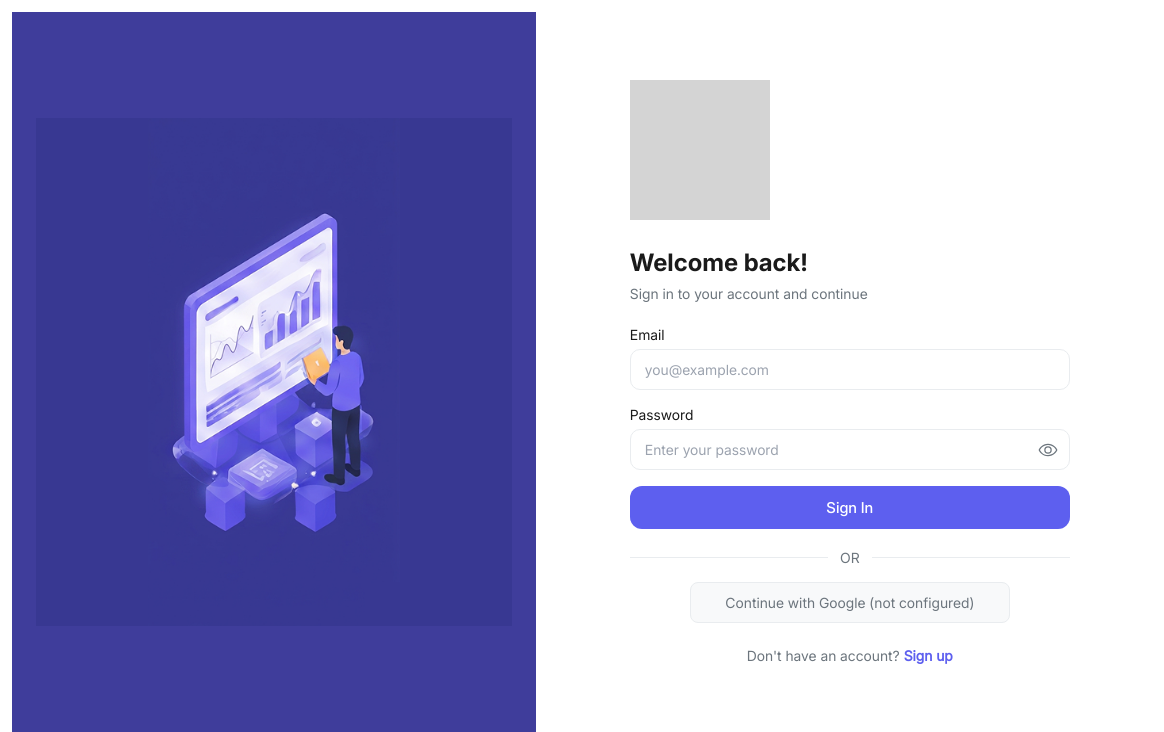
Scenario: a failed sign-in shows the server message and stays on the sign-in page
In the field labelled "Email": (850, 370) [630,349,1070,390], type "zed@example.test"
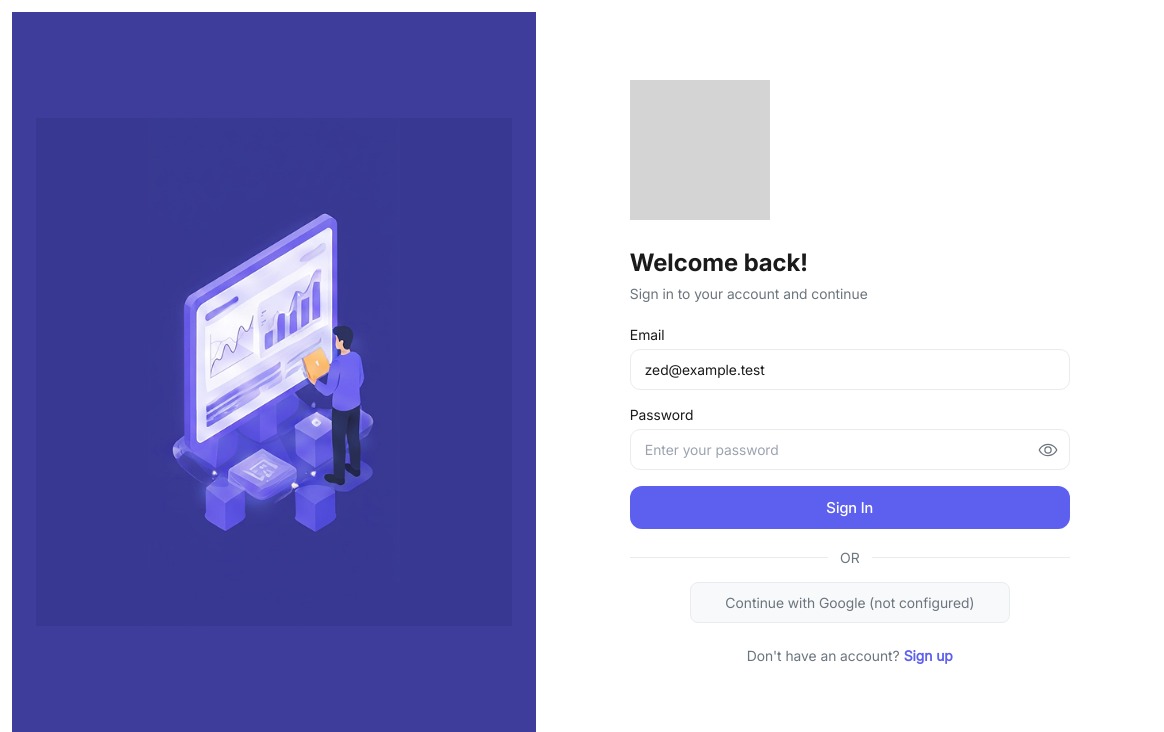
In the password field labelled "Password": (850, 450) [630,429,1070,470], type "wrong-password"
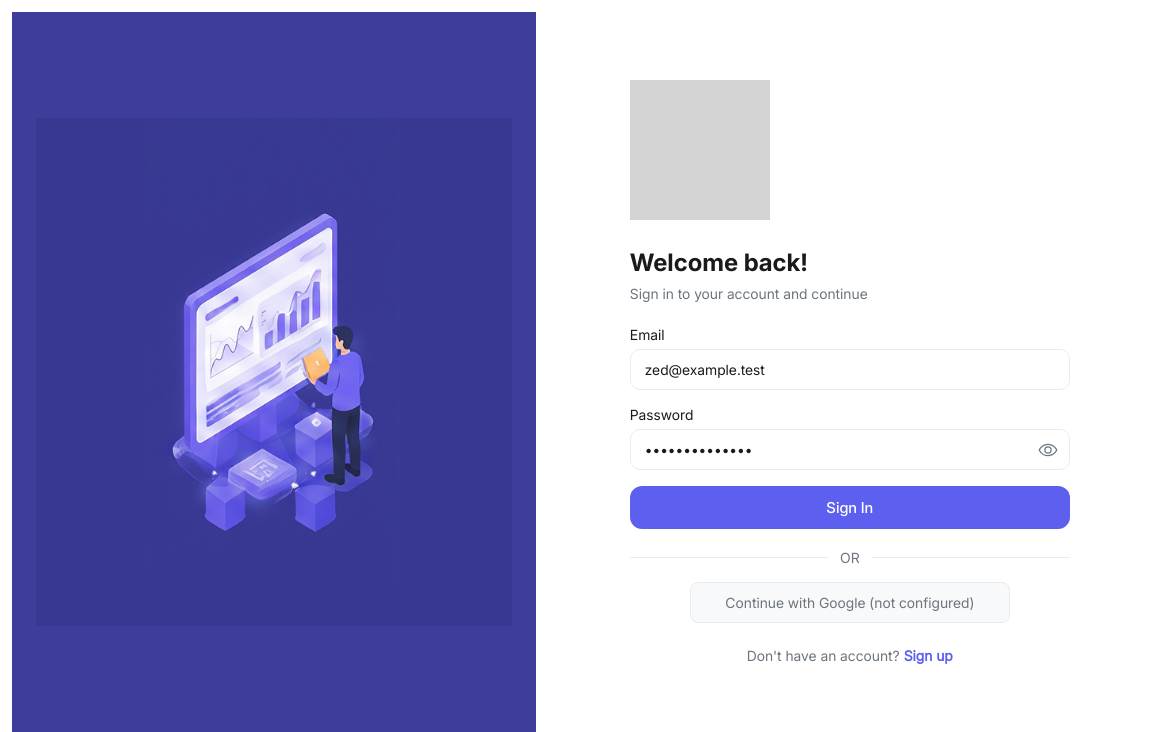
Click the button "Sign In": (850, 508) [630,486,1070,529]
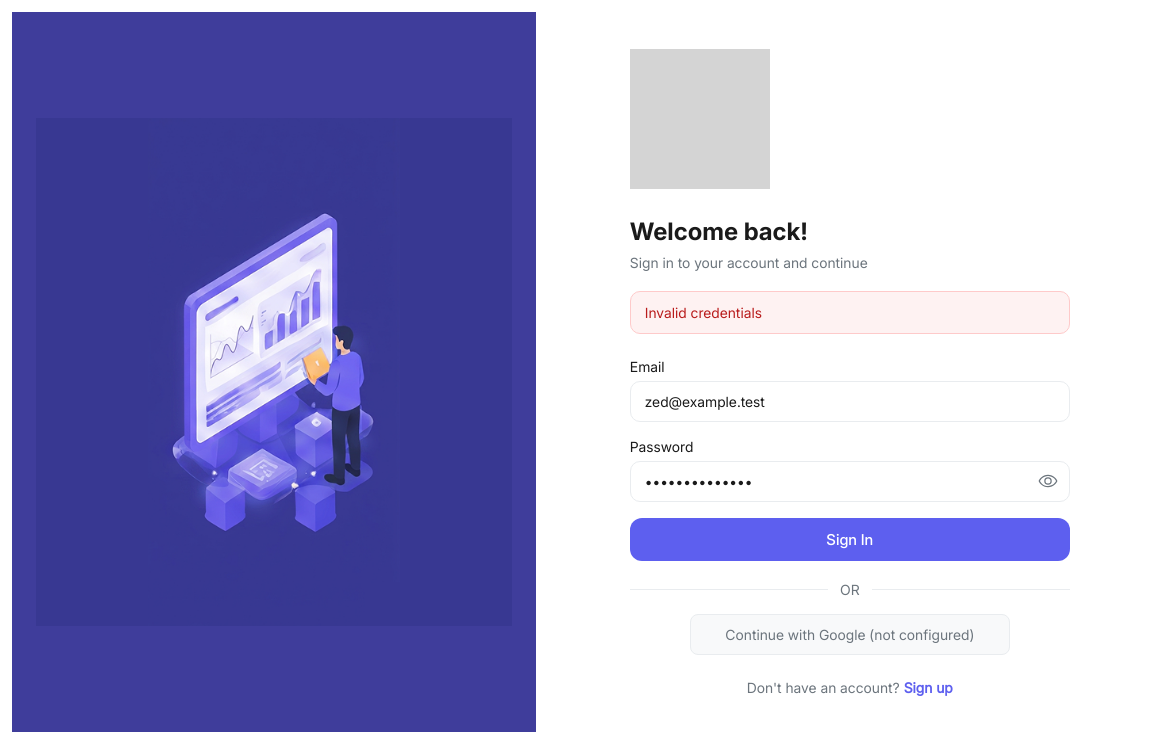
Expected: the message reads "Invalid credentials", [645,304,762,320]
